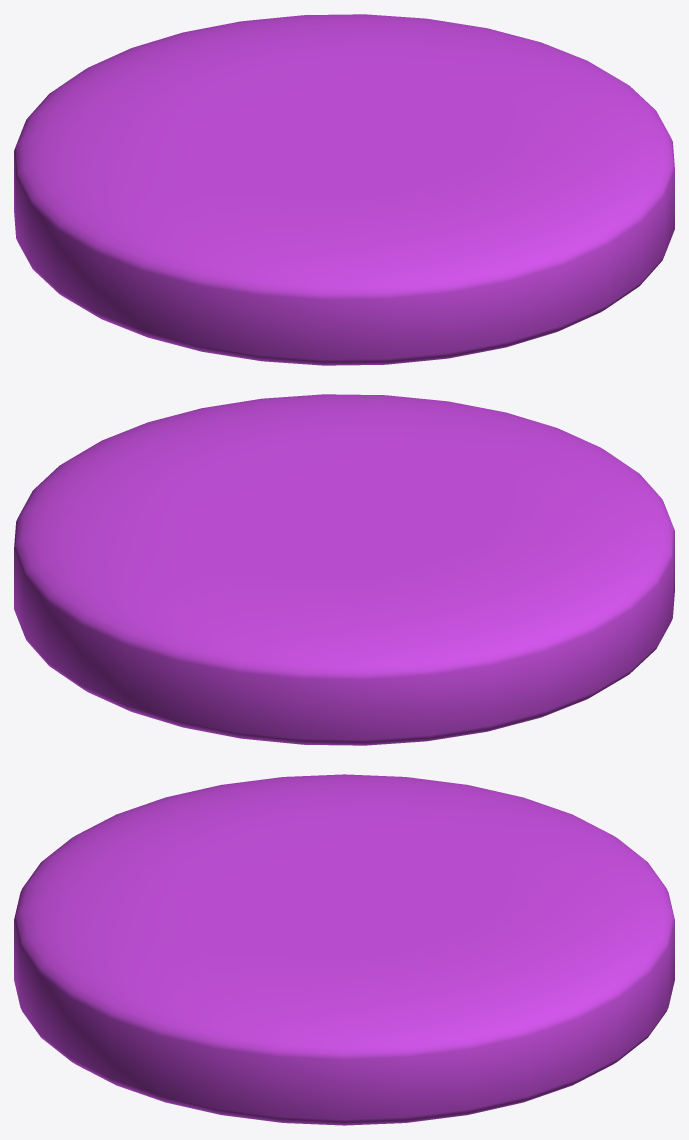
The picture shows the model from 3 angles, top to bottom: view 1: azimuth 30°, elevation 25°; view 2: azimuth 150°, elevation 25°; view 3: azimuth 270°, elevation 25°; orthographic projection.
Parts seen in each view (by area): view 1: Cylinder; view 2: Cylinder; view 3: Cylinder.
Part boxes in pixels (<box>): Cylinder: <box>14,14,674,365</box>; Cylinder: <box>14,394,674,745</box>; Cylinder: <box>14,774,674,1125</box>.
Size of the model in its own units: 2 by 0.4 by 2.
